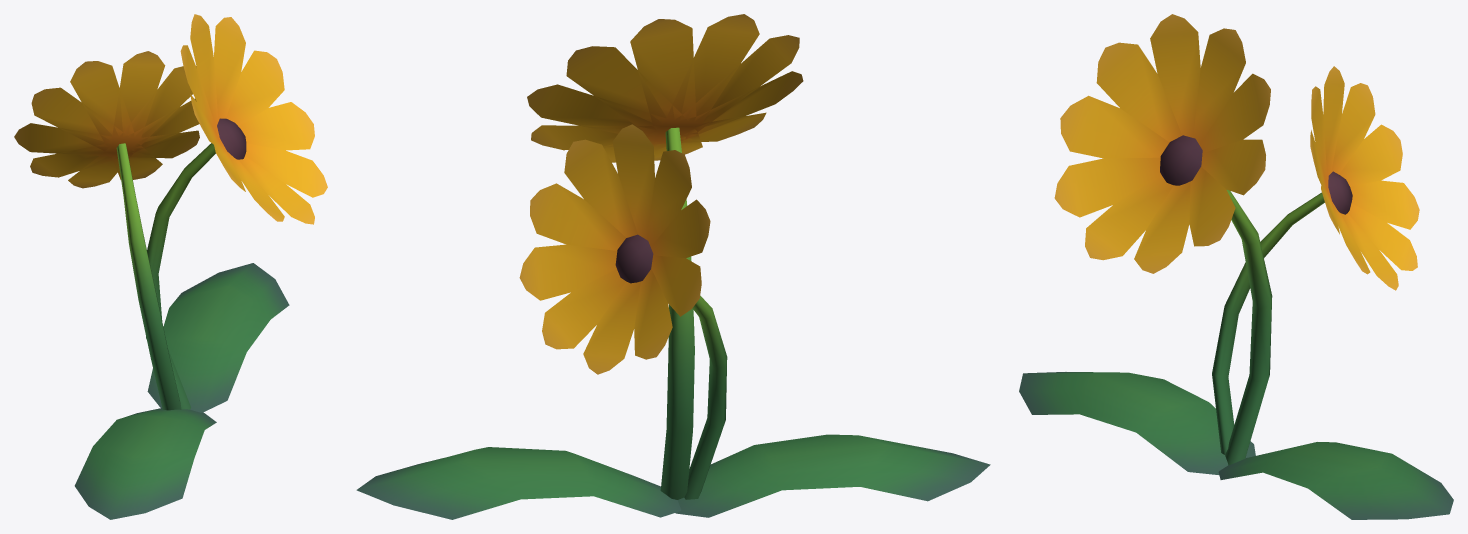
The model's file is flower13.glb.
3 renders of one model, left to right at view 1: azimuth 30°, elevation 25°; view 2: azimuth 150°, elevation 25°; view 3: azimuth 270°, elevation 25°, orthographic. The views are drawn at different scales.
Visible parts, largest first — view 1: Flower.016; view 2: Flower.016; view 3: Flower.016.
Part boxes in pixels (bbox=[...]): Flower.016: bbox=[14, 14, 327, 519]; Flower.016: bbox=[356, 14, 990, 519]; Flower.016: bbox=[1019, 14, 1453, 519].
Bounding box in the file's own units: 2.39 × 2.68 × 2.37.
Materials: 1 (1 with a texture image).
